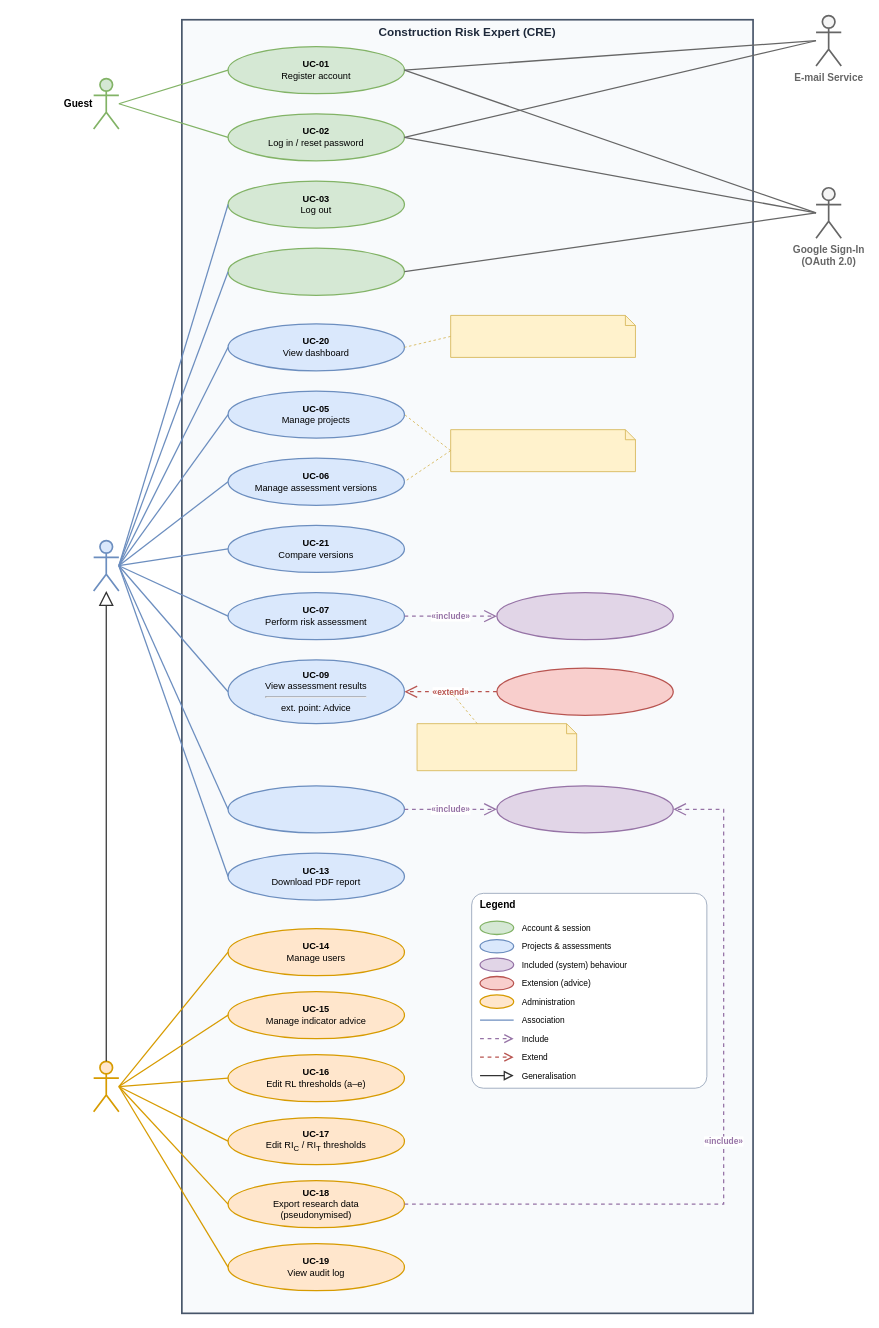
Some shapes in this 879 by 1328 pixel diagram are drawn without their labels. The shapes that lost their labels are listed below. From the top down, each one's centre as x and y in pixels, then its label:
the point at 316,271: UC-04 Manage own account
the point at 542,336: Home after log-in; holds the project list of UC-05 (KPI cards, charts)
the point at 542,450: Delete = soft delete: hidden from user, data retained for research
the point at 105,565: Registered User (Assessor)
the point at 585,616: UC-08 Calculate risk level (Risk Engine)
the point at 585,691: UC-10 View advice & choose strategy
the point at 496,747: condition: {risk level ∈ {H, VH}} extension point: Advice
the point at 316,809: UC-11 Generate PDF report
the point at 585,809: UC-12 Track job status
the point at 105,1086: Administrator
